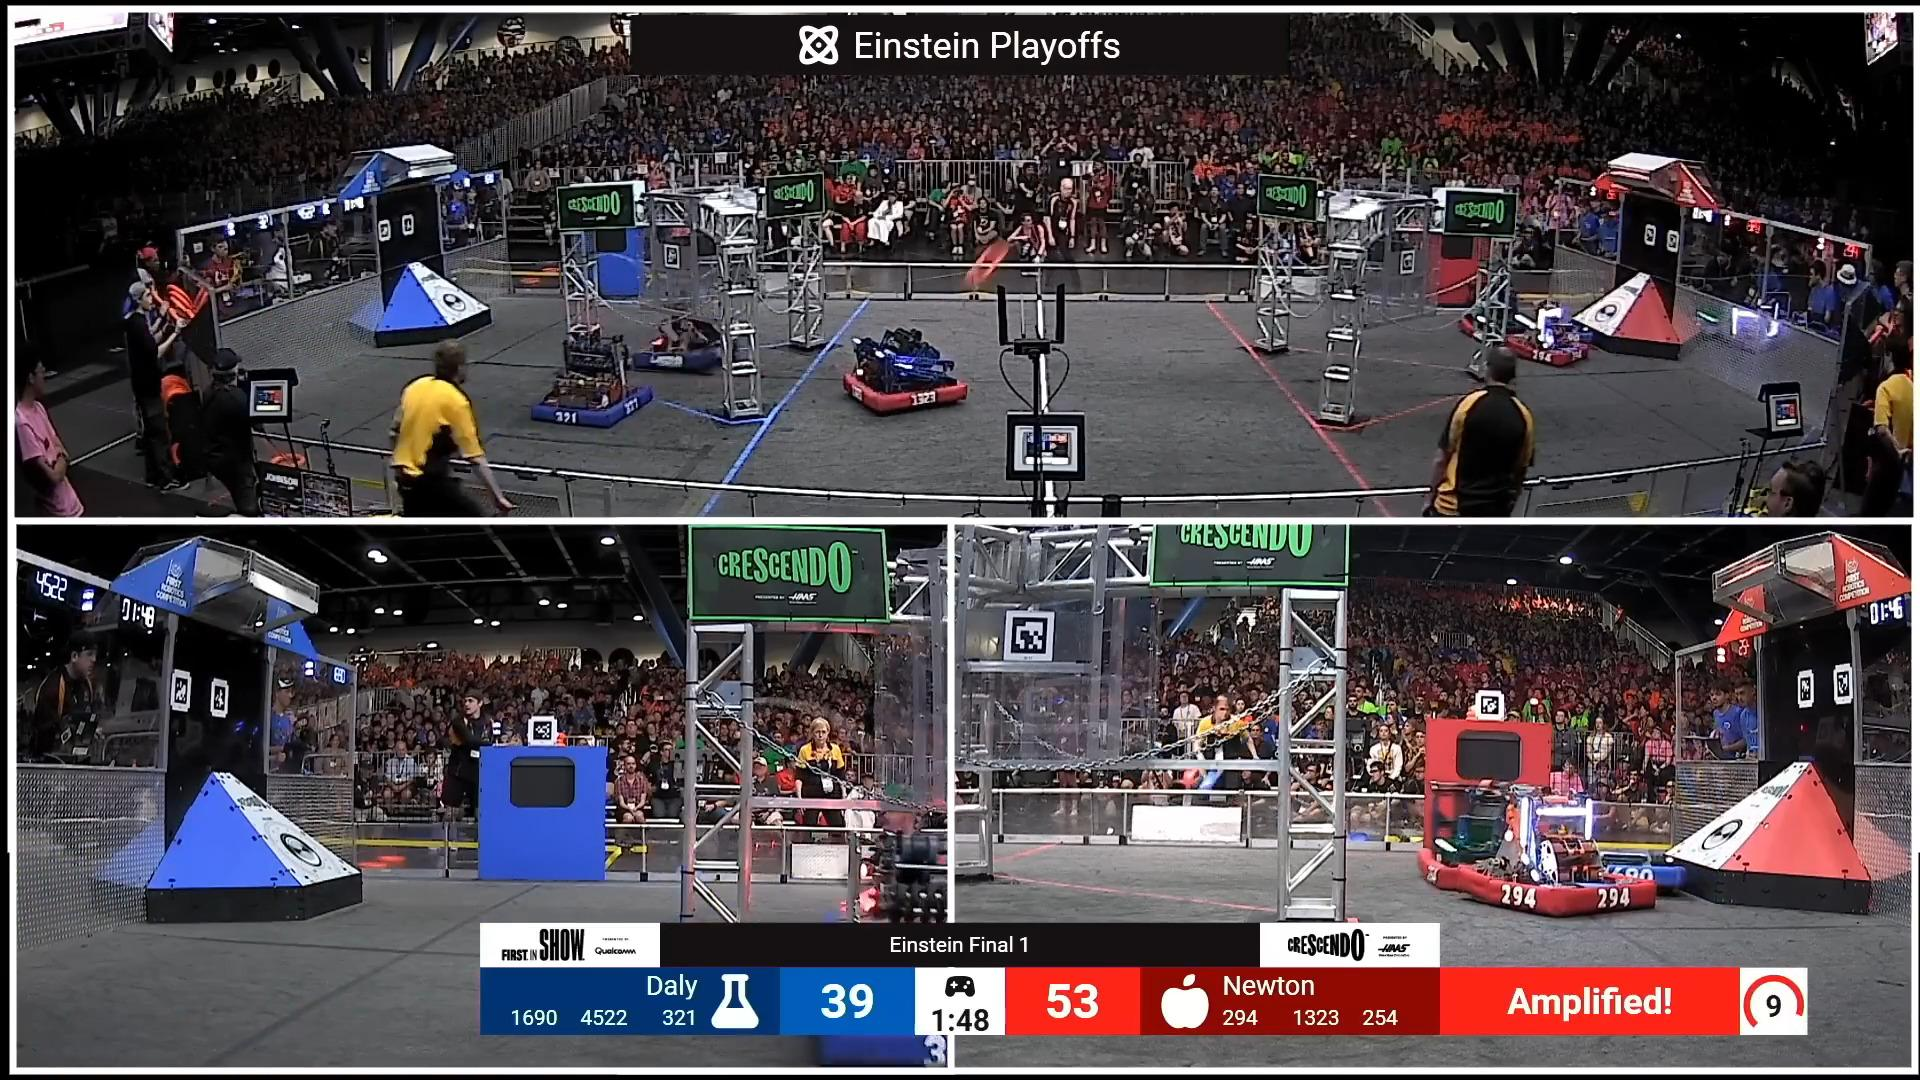blue_idle: (522, 318, 657, 451), (632, 305, 733, 372)
note: (945, 225, 1025, 290), (272, 440, 309, 468)
red_idle: (1506, 287, 1596, 376)
red_shooting: (844, 328, 978, 426)
